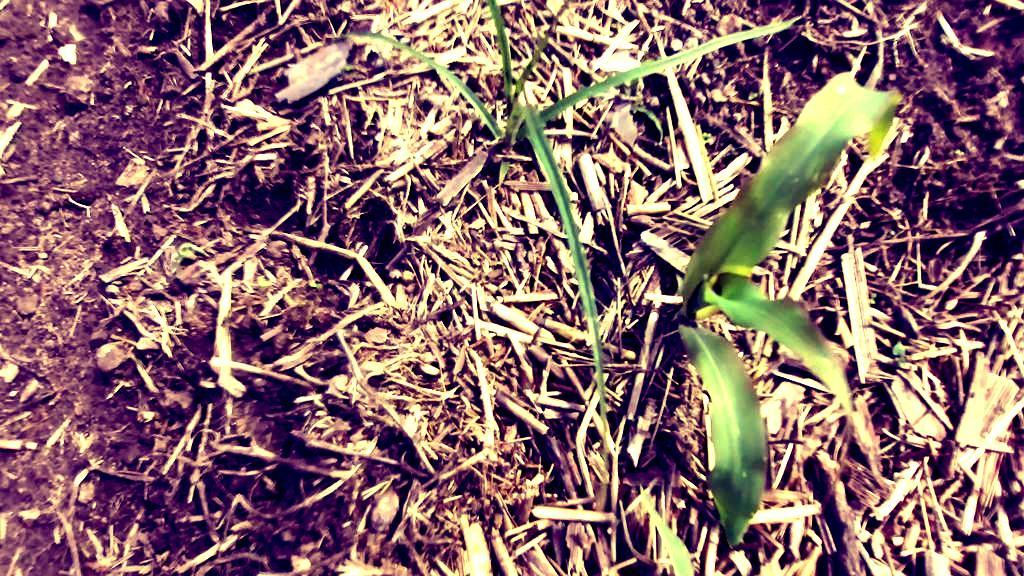BroWeed: (627, 93, 670, 149), (173, 238, 211, 265), (185, 291, 218, 314), (888, 339, 911, 372), (153, 304, 174, 324), (253, 273, 273, 292), (867, 291, 879, 306), (306, 281, 325, 290), (747, 91, 760, 101), (725, 149, 739, 158), (342, 63, 354, 73), (702, 131, 712, 139)
Maize: (645, 54, 904, 560), (625, 481, 702, 576)
